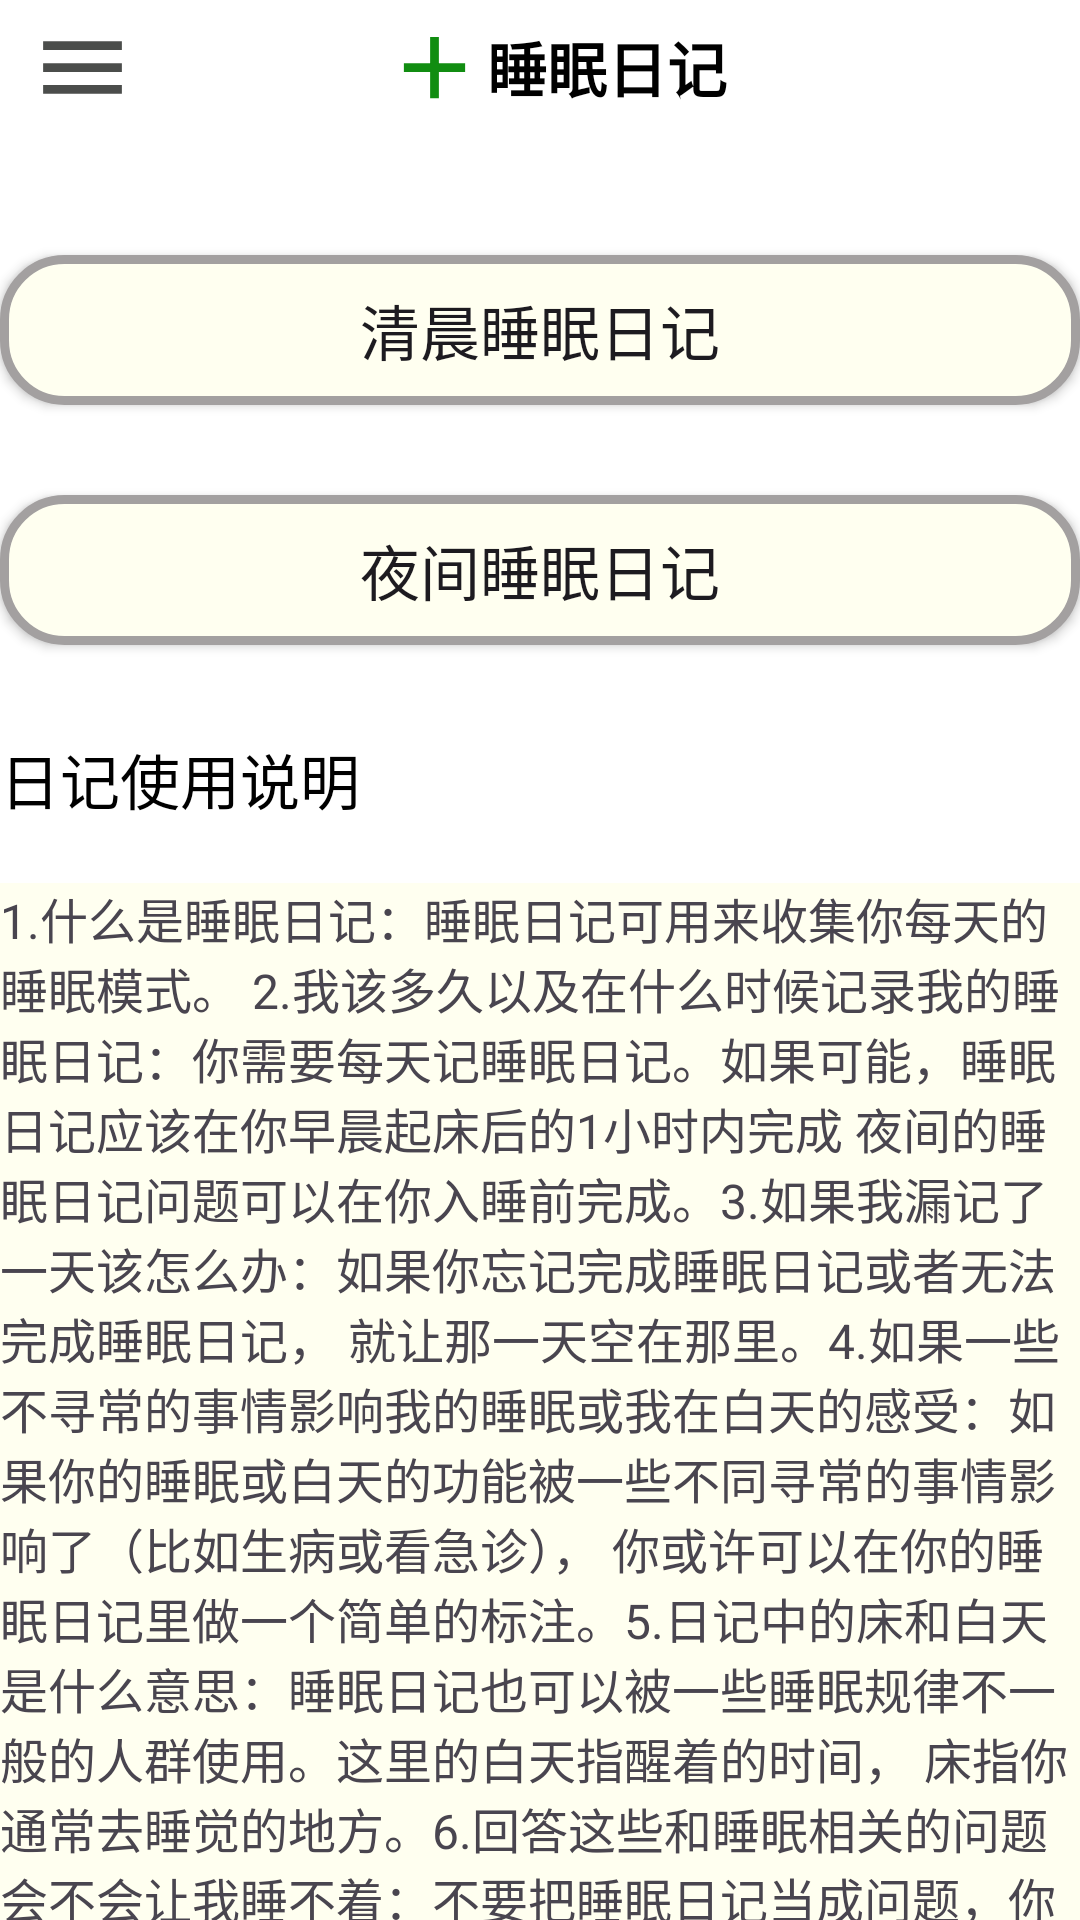

Named icons in this screenshot (1080 x 1920) and their bounding boxes, rect(x1, y1, x2, y2):
add: rect(403, 37, 466, 99)
menu: rect(43, 41, 122, 94)
